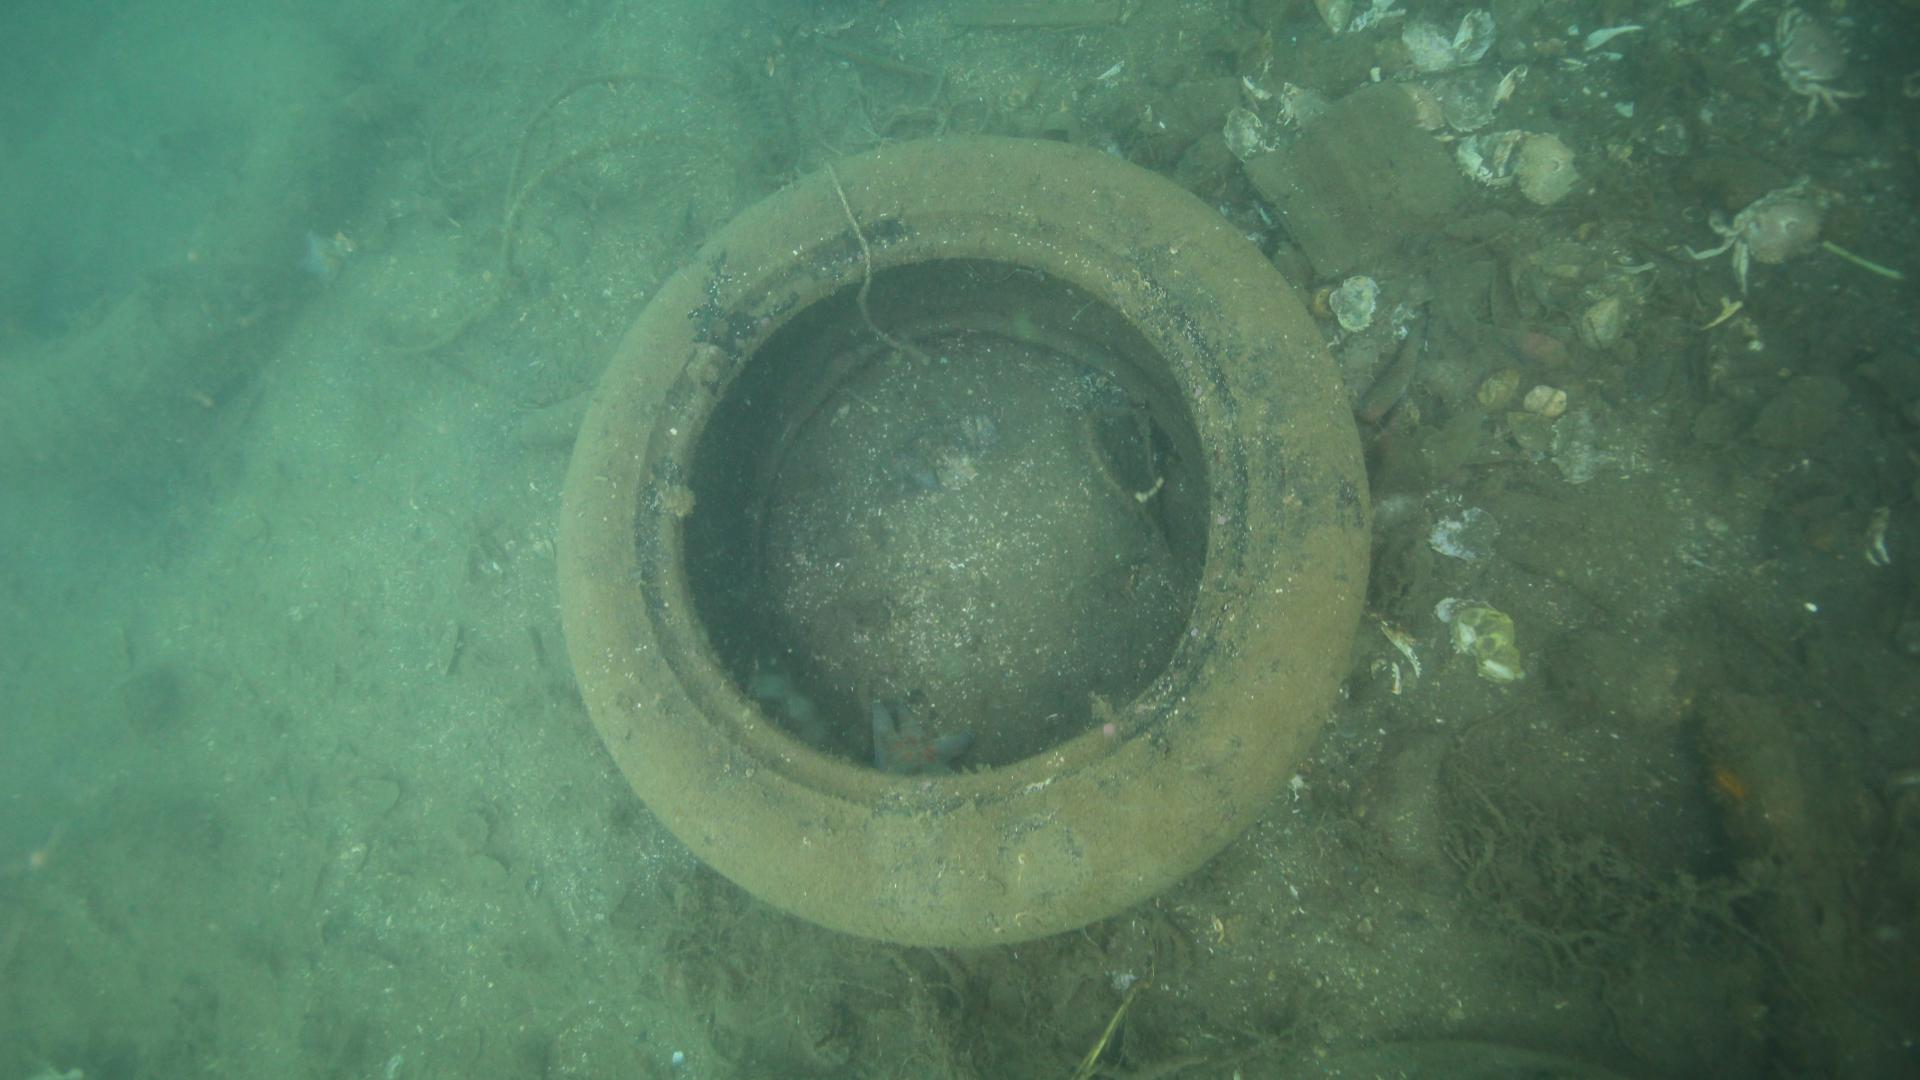tire: (549, 133, 1374, 953)
